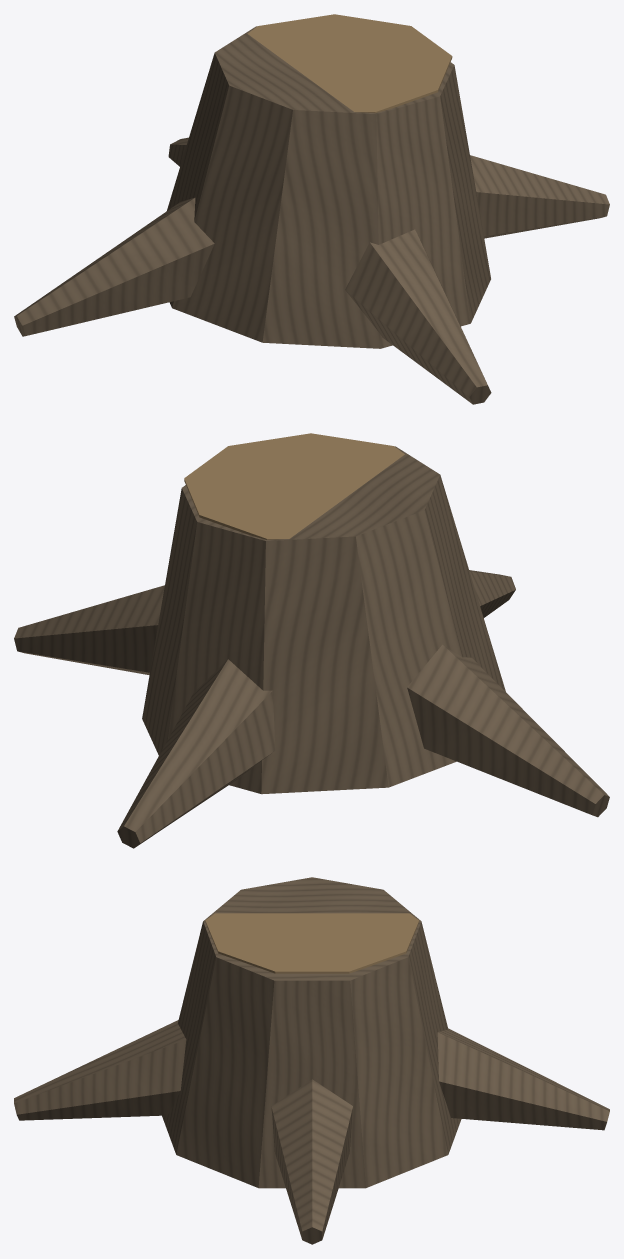
The model's file is stump.glb.
3 renders of one model, top to bottom at view 1: azimuth 30°, elevation 25°; view 2: azimuth 150°, elevation 25°; view 3: azimuth 270°, elevation 25°, orthographic. The views are drawn at different scales.
Visible parts, largest first — view 1: stump; view 2: stump; view 3: stump.
Boxes of the visible parts, x1,y1,x2,y2 form: stump: (14,14,609,404); stump: (14,433,609,848); stump: (14,877,609,1244).
Bounding box in the file's own units: 1.29 × 0.4964 × 1.29.
2 materials, 1 textured.
